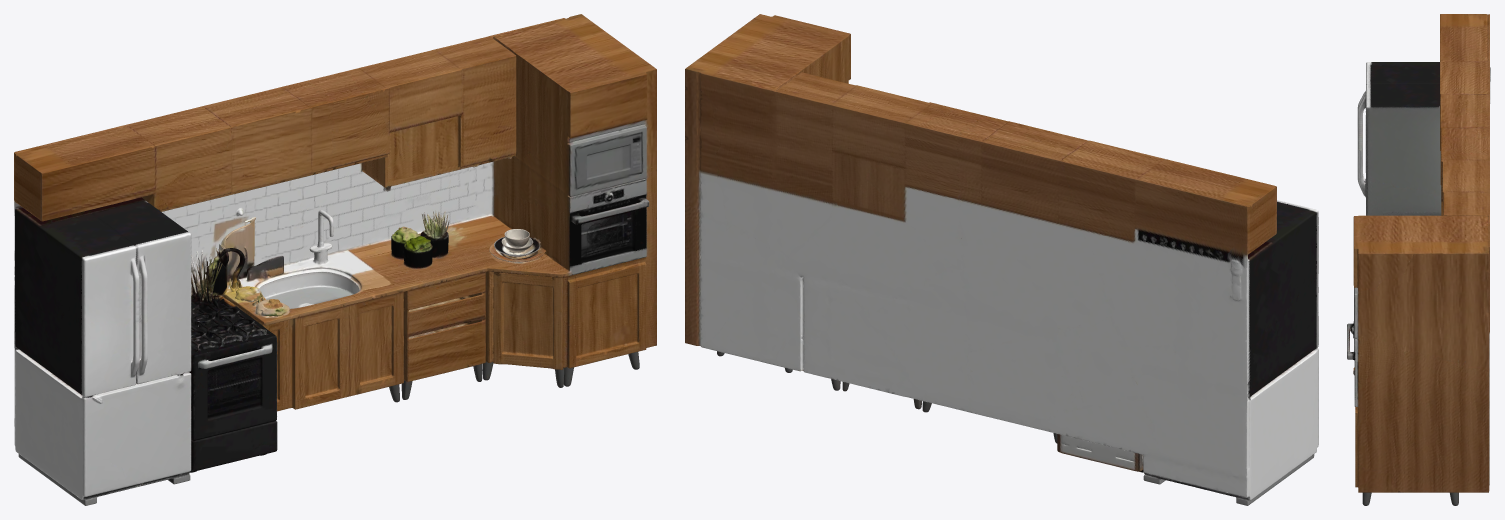
File: cozinha_armario.glb
3 renders of one model, left to right at view 1: azimuth 30°, elevation 25°; view 2: azimuth 150°, elevation 25°; view 3: azimuth 270°, elevation 25°, orthographic. The views are drawn at different scales.
Parts seen in each view (by area): view 1: mesh_node; view 2: mesh_node; view 3: mesh_node.
Boxes of the visible parts, bbox=[...] form: mesh_node: bbox=[14, 14, 656, 505]; mesh_node: bbox=[685, 14, 1318, 505]; mesh_node: bbox=[1347, 14, 1490, 505].
Bounding box in the file's own units: 1.9 × 0.9731 × 0.4817.
1 material, 1 textured.
